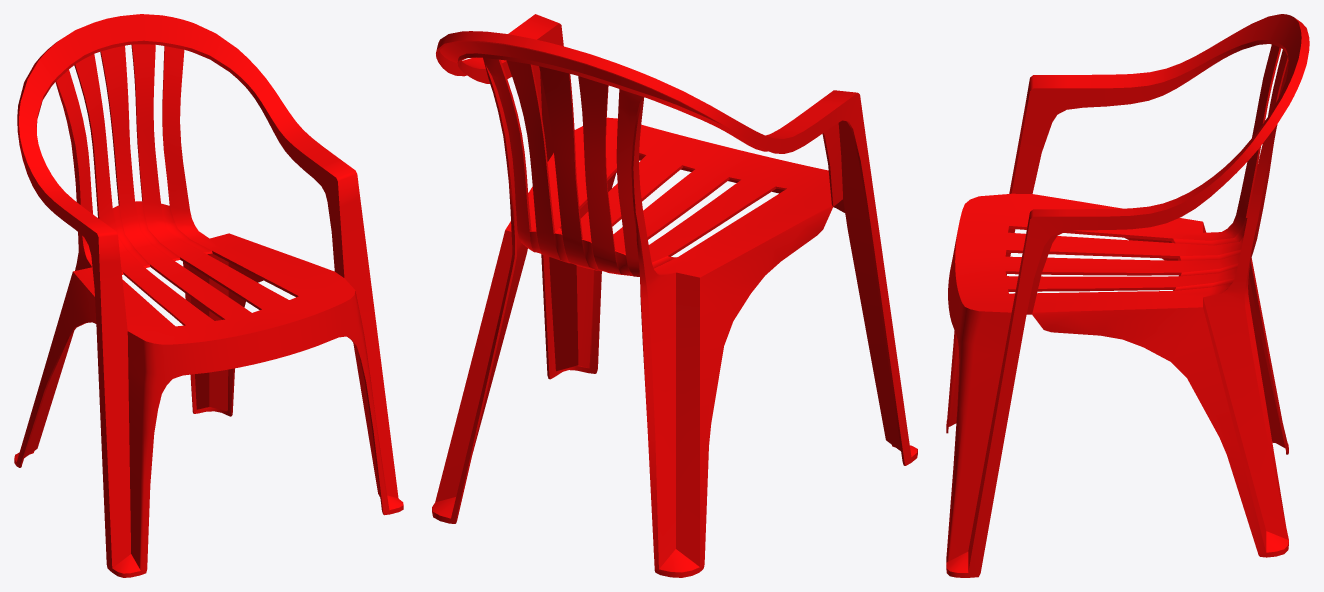
The model's file is Plastic Chair.fbx.
The picture shows the model from 3 angles, left to right: view 1: azimuth 30°, elevation 25°; view 2: azimuth 150°, elevation 25°; view 3: azimuth 270°, elevation 25°; orthographic projection. The views are drawn at different scales.
Visible parts, largest first — view 1: polySurface15; view 2: polySurface15; view 3: polySurface15.
Part boxes in pixels (<box>): polySurface15: <box>14,14,403,577</box>; polySurface15: <box>432,14,917,577</box>; polySurface15: <box>946,14,1309,577</box>.
Size of the model in its own units: 64.19 by 87.98 by 62.76.
